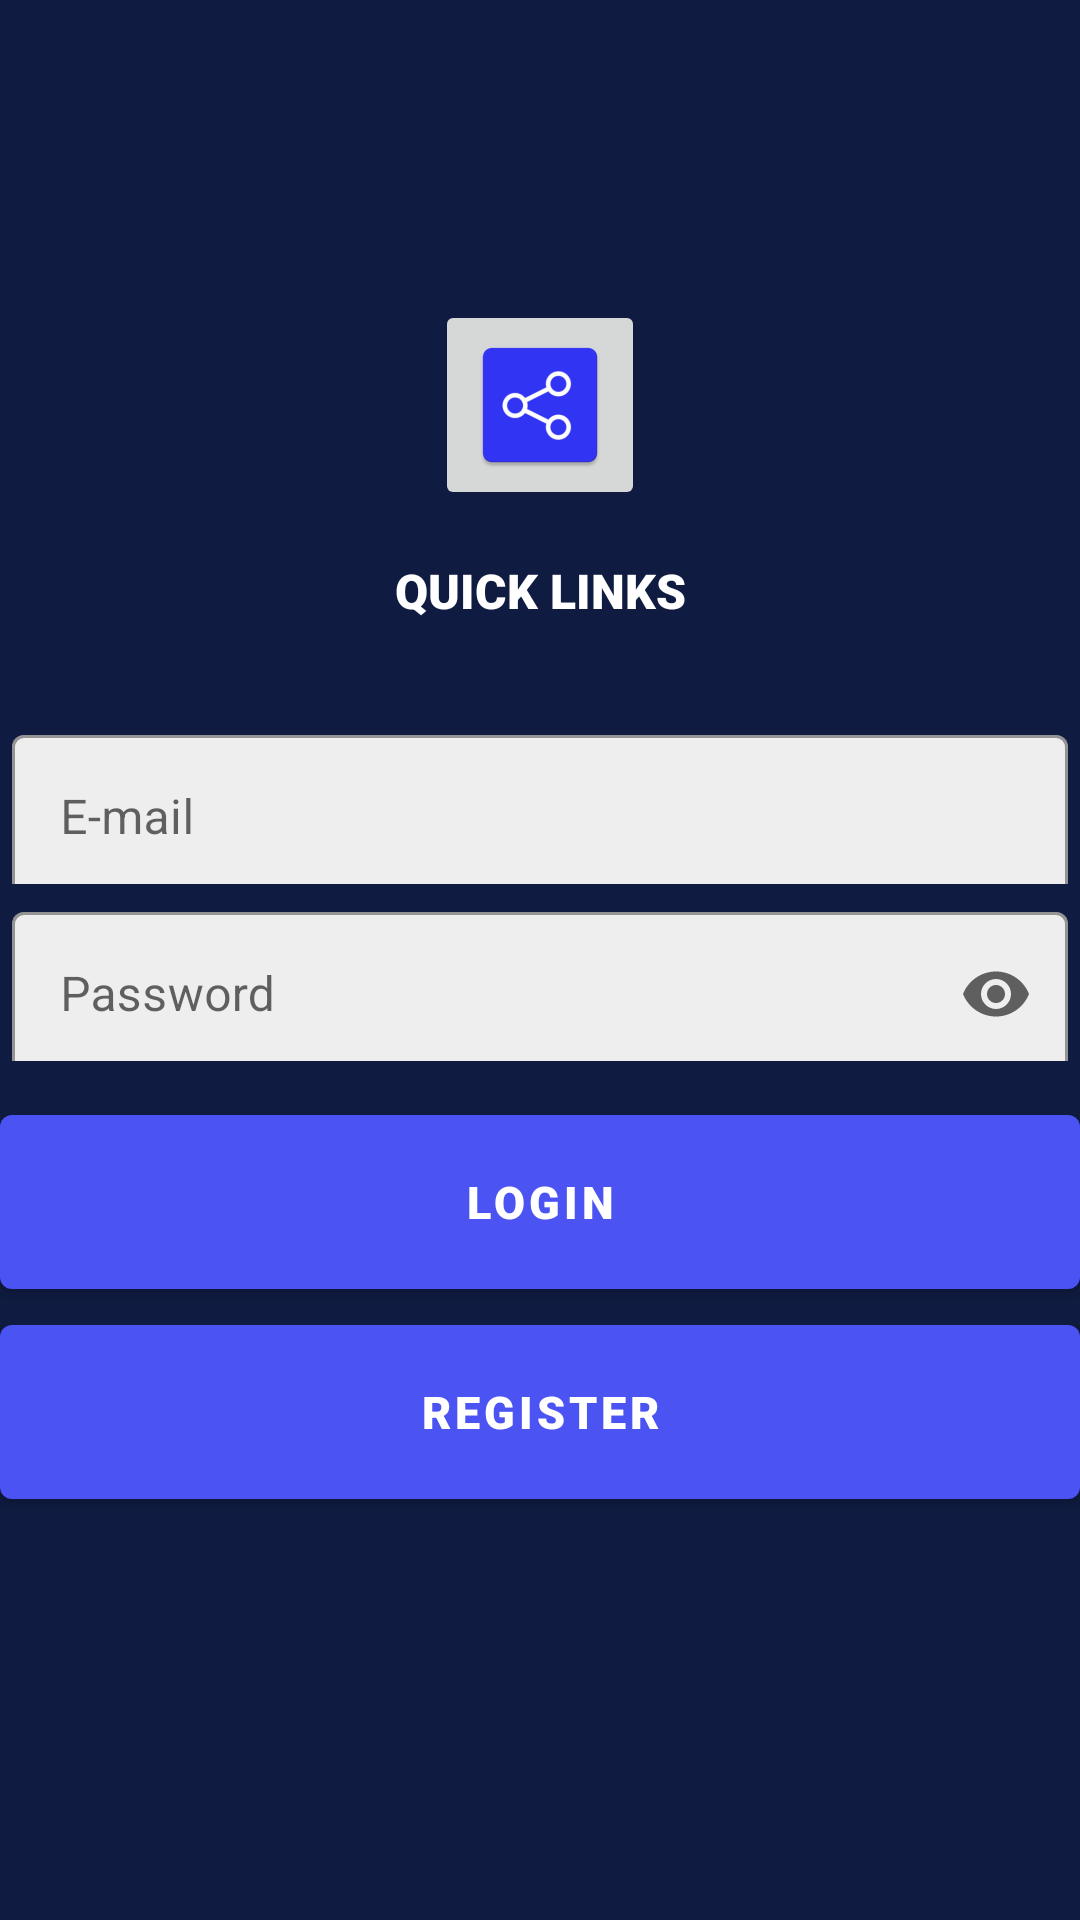

Named icons in this screenshot (1080 x 1920) and their bounding boxes, bbox=(x1, y1, x2, y2):
Icon that represents the brand app: bbox=(447, 318, 633, 492)
